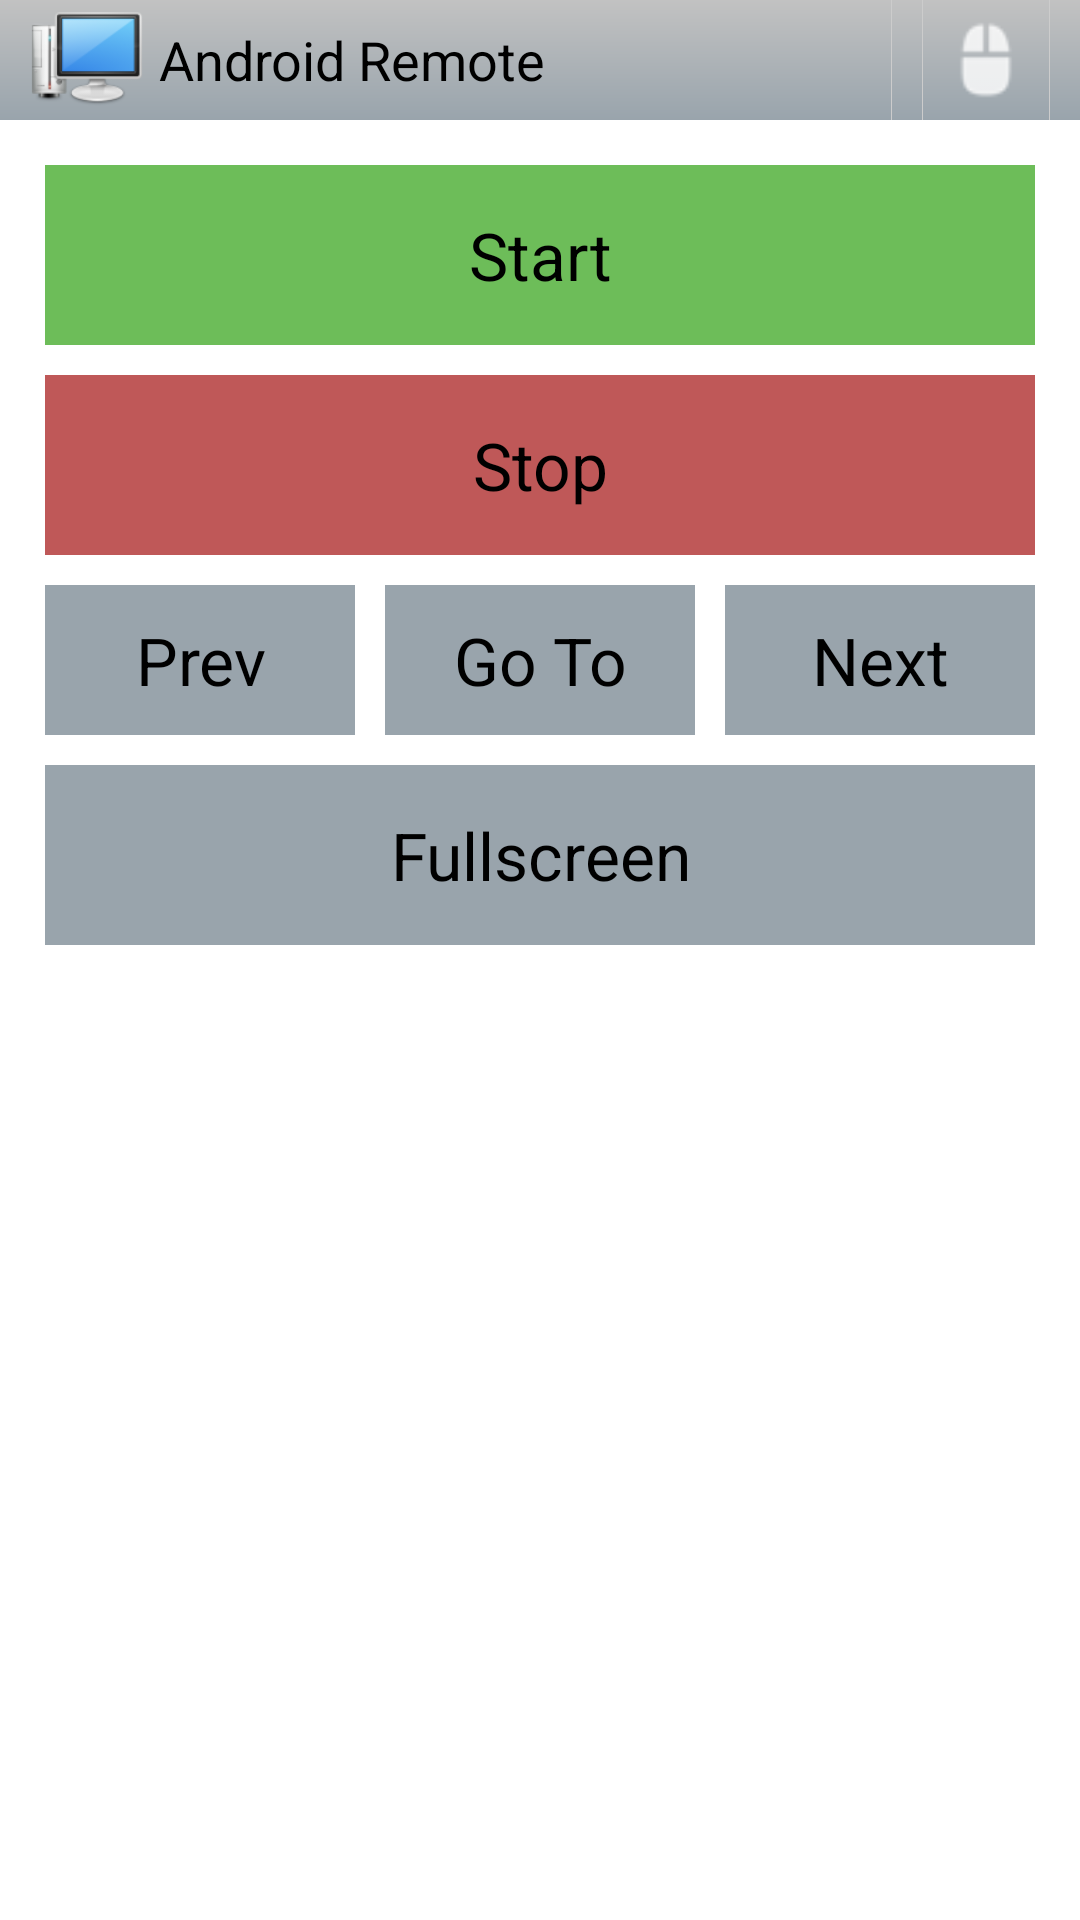

Screen size 1080px x 1920px. Icon name, then its center in pixels as (x=x, y=y):
mouse: (x=986, y=55)
